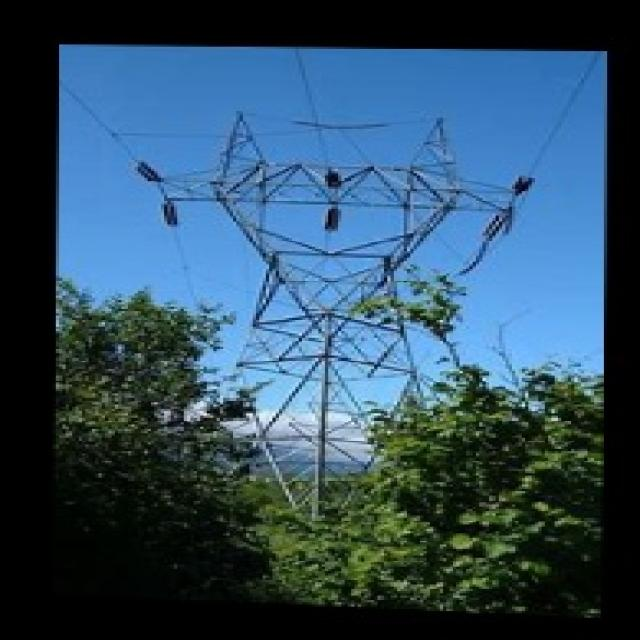utility poles: (340, 268, 542, 452), (152, 284, 302, 430)
